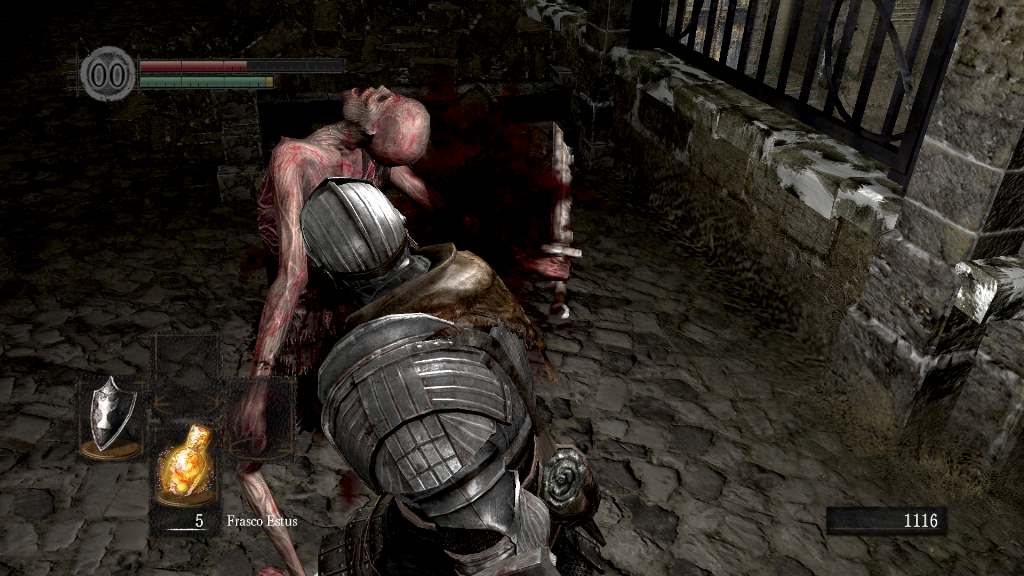health: (138, 58, 343, 71)
hollow: (221, 83, 578, 576)
humanity: (80, 45, 136, 102)
player: (299, 176, 602, 576)
souls: (825, 506, 945, 536)
stamina: (138, 74, 274, 88)
